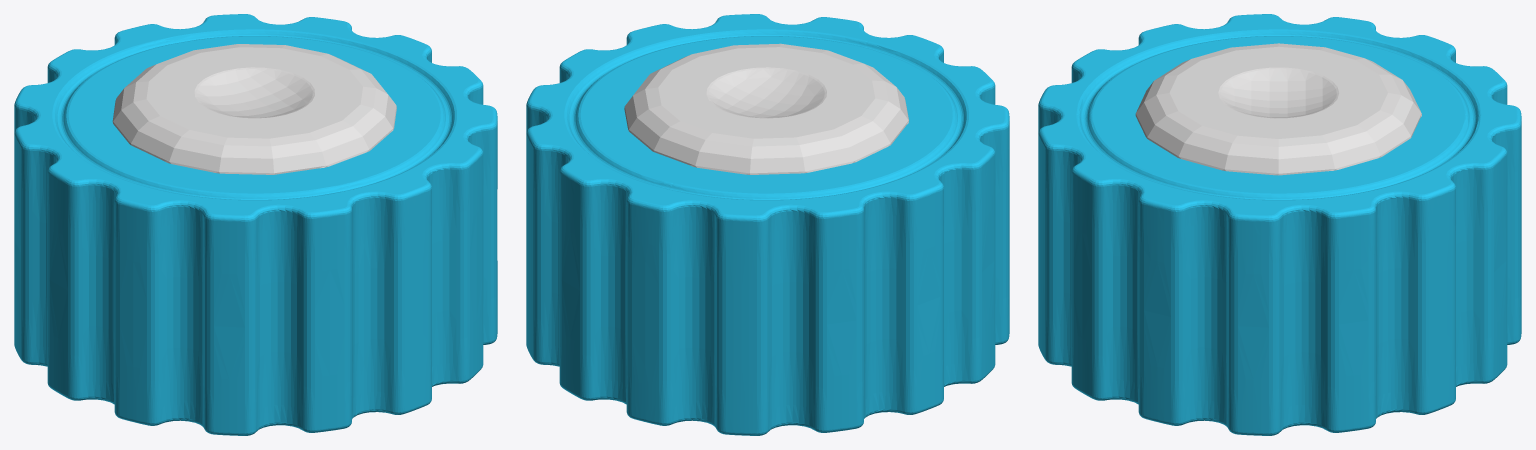
The model's file is bathbutton_blue.fbx.
3 renders of one model, left to right at view 1: azimuth 30°, elevation 25°; view 2: azimuth 150°, elevation 25°; view 3: azimuth 270°, elevation 25°, orthographic.
Parts seen in each view (by area): view 1: 개체_2, 개체_1; view 2: 개체_2, 개체_1; view 3: 개체_2, 개체_1.
Part boxes in pixels (x1,y1,x2,y2): 개체_2: (14, 14, 497, 435); 개체_1: (112, 44, 396, 174); 개체_2: (526, 14, 1009, 435); 개체_1: (624, 43, 908, 174); 개체_2: (1038, 14, 1521, 435); 개체_1: (1135, 43, 1421, 175).
Bounding box in the file's own units: 200 × 120 × 199.
